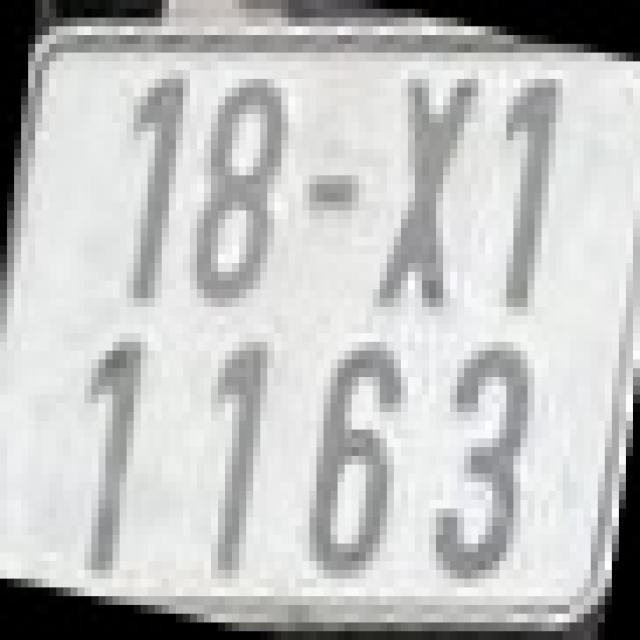1: (197, 333, 274, 579), (77, 333, 148, 570), (492, 70, 563, 306), (120, 70, 190, 306)
3: (436, 342, 535, 579)
6: (309, 342, 401, 570)
8: (190, 70, 288, 306)
X: (373, 70, 478, 316)
